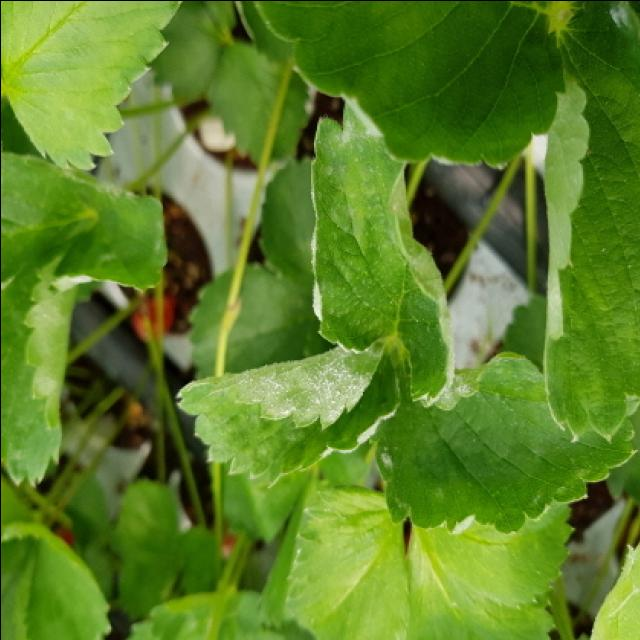Powdery Mildew Leaf: (371, 342, 637, 537), (307, 101, 454, 404), (173, 343, 399, 490), (0, 151, 166, 298), (0, 237, 81, 488)
